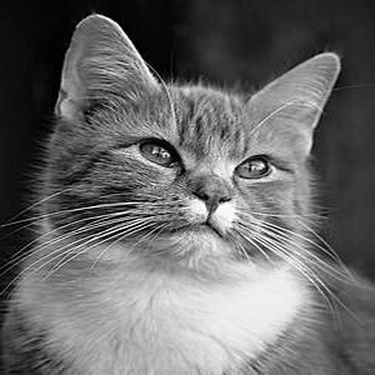cat: (10, 14, 369, 372)
